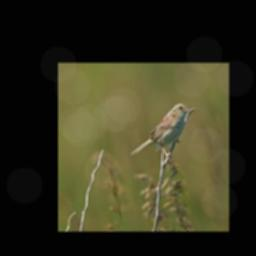Sparrow: (130, 102, 193, 163)
